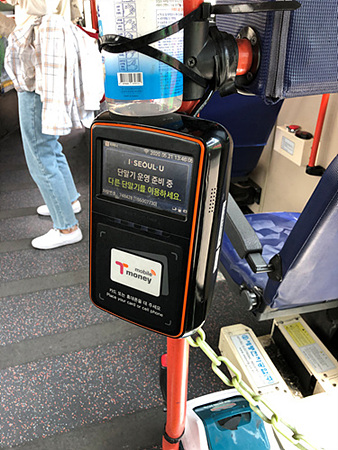terminal: (94, 113, 216, 339)
